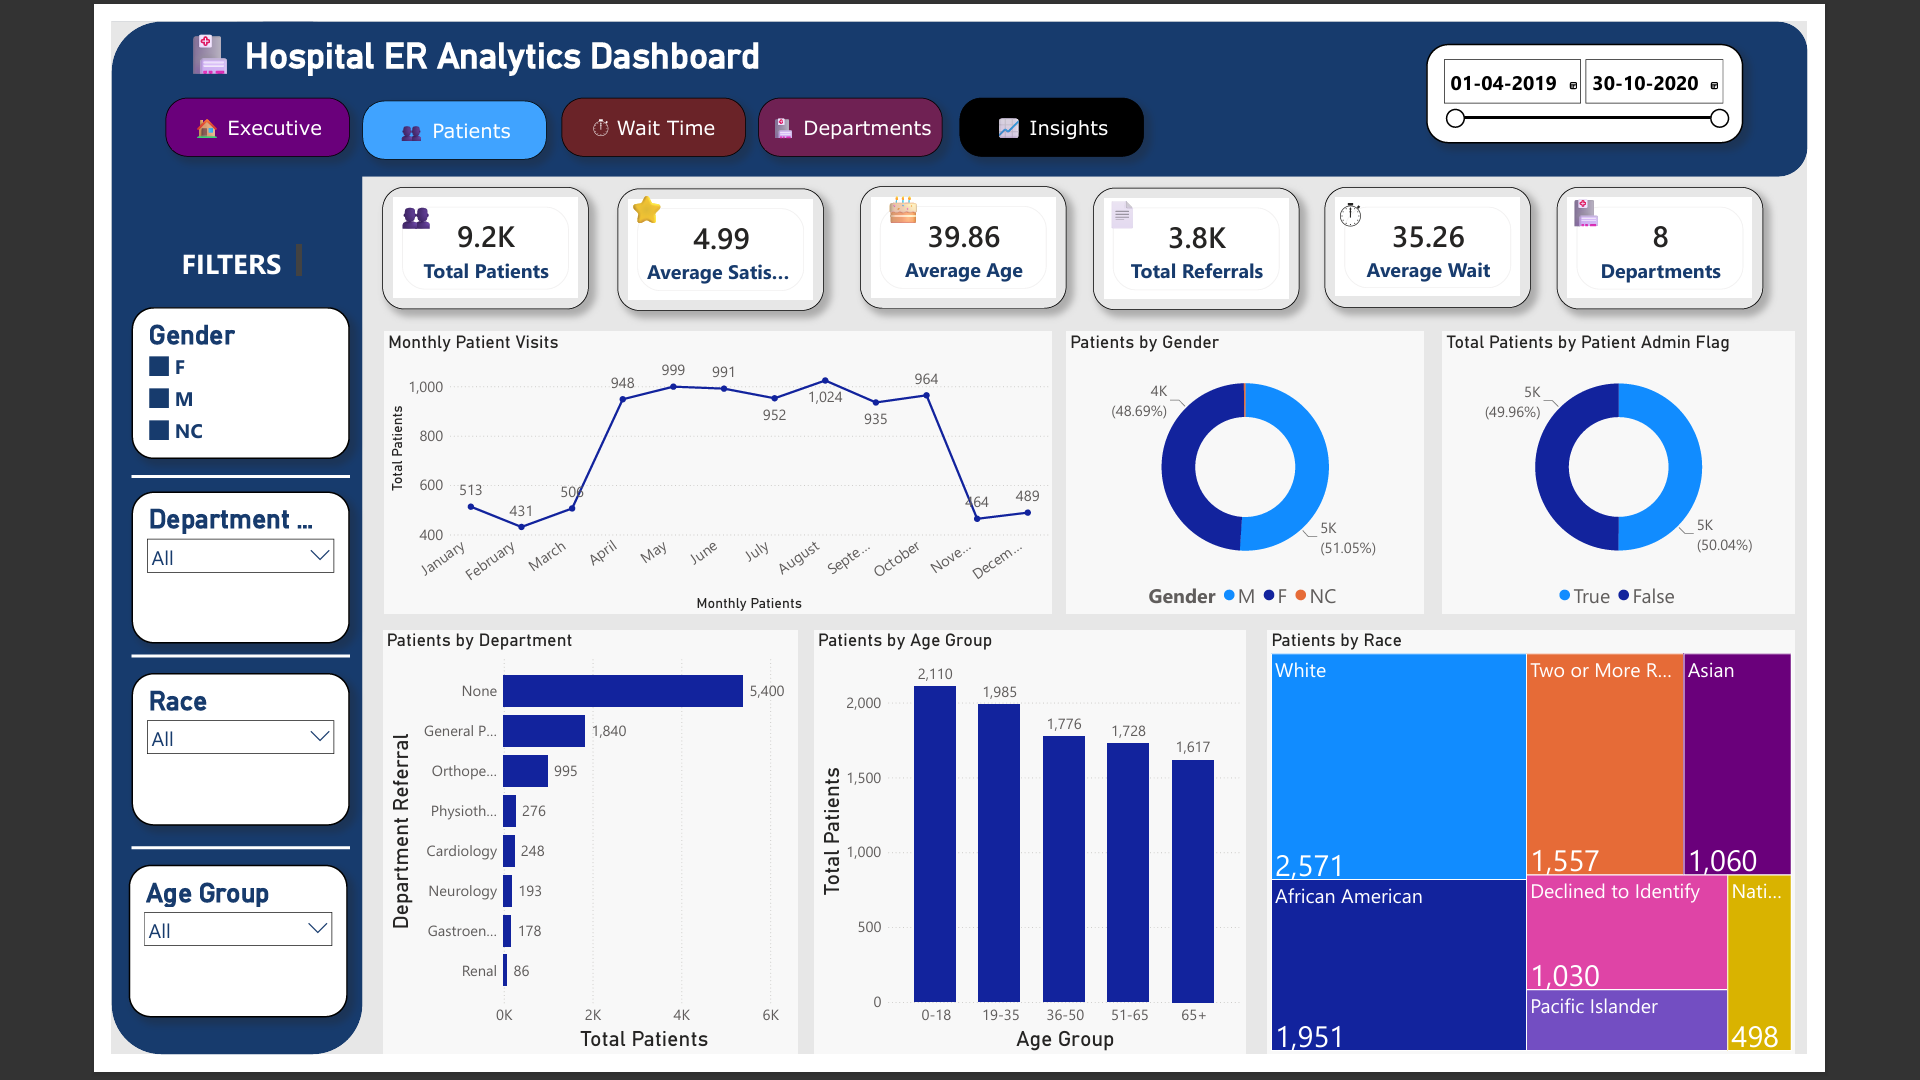

This screenshot's page, from the dashboard's own definition file:
{"tool":"powerbi","page":{"name":"Executive Summary","canvas":[2300,1400],"ordinal":0},"visuals":[{"type":"shape","box":[170,0,2130,210],"z":0},{"type":"cardVisual","fields":{"Data":["Hospital ER.Total Patients"]},"box":[366.7,224.6,280,166.1],"z":0,"group":"g1"},{"type":"shape","box":[0,0,340,1400],"z":1000},{"type":"cardVisual","fields":{"Data":["Hospital ER.Average Wait"]},"box":[1645,224.6,280,163.7],"z":1000,"group":"g1"},{"type":"textbox","box":[90,0,1153.3,113.3],"z":2000},{"type":"cardVisual","fields":{"Data":["Hospital ER.Average Satisfaction"]},"box":[685.9,226.1,280,166.1],"z":2000,"group":"g1"},{"type":"cardVisual","fields":{"Data":["Hospital ER.Average Age"]},"box":[1014.3,223.3,280,166.1],"z":3000,"group":"g1"},{"type":"slicer","fields":{"Values":["Hospital ER.Gender"]},"box":[26.7,386.7,296.7,206.7],"z":3000},{"type":"cardVisual","fields":{"Data":["Hospital ER.Departments"]},"box":[1959.6,223.9,280,166.1],"z":4000,"group":"g1"},{"type":"slicer","fields":{"Values":["Hospital ER.Department Referral"]},"box":[26.7,636.7,296.7,206.7],"z":4000},{"type":"cardVisual","fields":{"Data":["Hospital ER.Total Referrals"]},"box":[1330.2,225,280,166.1],"z":5000,"group":"g1"},{"type":"slicer","fields":{"Values":["Hospital ER.Race"]},"box":[26.7,883.3,296.7,206.7],"z":5000},{"type":"textbox","box":[1657.8,230,186.7,103.3],"z":6000,"group":"g1"},{"type":"slicer","fields":{"Values":["Hospital ER.Age Group"]},"box":[23.3,1143.3,296.7,206.7],"z":6000},{"type":"textbox","box":[1967.8,227.4,80,66.7],"z":7000,"group":"g1"},{"type":"shape","box":[26.7,560,296.7,113.3],"z":7000},{"type":"group","id":"g1","title":"Group 1","box":[366.7,223.3,1872.9,168.9],"z":8000},{"type":"shape","box":[26.7,1063.3,296.7,113.3],"z":9000},{"type":"shape","box":[26.7,803.3,296.7,113.3],"z":10000},{"type":"textbox","box":[90,296.7,173.3,56.7],"z":11000},{"type":"lineChart","title":"Monthly Patient Visits","fields":{"Category":["Hospital ER.Date.Variation.Date Hierarchy.Month"],"Y":["Hospital ER.Total Patients"]},"box":[370,420,905,382.5],"z":12000},{"type":"donutChart","title":"Patients by Gender","fields":{"Category":["Hospital ER.Gender"],"Y":["Hospital ER.Total Patients"]},"box":[1295,420,485,382.5],"z":13000},{"type":"donutChart","fields":{"Category":["Hospital ER.Patient Admin Flag"],"Y":["Hospital ER.Total Patients"]},"box":[1805,420,477.5,382.5],"z":14000},{"type":"clusteredBarChart","title":"Patients by Department","fields":{"Category":["Hospital ER.Department Referral"],"Y":["Hospital ER.Total Patients"]},"box":[367.5,825,562.5,575],"z":15000},{"type":"clusteredColumnChart","title":"Patients by Age Group","fields":{"Category":["Hospital ER.Age Group"],"Y":["Hospital ER.Total Patients"]},"box":[952.5,825,585,575],"z":16000},{"type":"treemap","title":"Patients by Race","fields":{"Values":["Hospital ER.Total Patients"],"Group":["Hospital ER.Race"]},"box":[1567.5,825,715,575],"z":17000},{"type":"textbox","box":[383.3,230,73.3,80],"z":18000},{"type":"textbox","box":[695,223,163.3,76.7],"z":19000},{"type":"textbox","box":[1043.3,223,163.3,86.7],"z":20000},{"type":"textbox","box":[1340,213,76.7,90],"z":21000},{"type":"slicer","fields":{"Values":["Hospital ER.Date"]},"box":[1782.5,30,430,135],"z":22000},{"type":"actionButton","box":[340,106.7,250,80],"z":23000},{"type":"actionButton","box":[610,103.3,250,80],"z":24000},{"type":"actionButton","box":[876.7,103.3,250,80],"z":25000},{"type":"actionButton","box":[1150,103.3,250,80],"z":26000},{"type":"actionButton","box":[73.3,103.3,250,80],"z":27000}]}

Visuals, with their boxes on the page's 2300x1400 design canvas (x1, y1, x2, y2). These are canvas units, not pixel positions in the 1920x1080 screenshot, which may show the page scaled, cropped or inside an application window:
shape: 170 0 2300 210
cardVisual - Hospital ER.Total Patients: 367 225 647 391
shape: 0 0 340 1400
cardVisual - Hospital ER.Average Wait: 1645 225 1925 388
textbox: 90 0 1243 113
cardVisual - Hospital ER.Average Satisfaction: 686 226 966 392
cardVisual - Hospital ER.Average Age: 1014 223 1294 389
slicer - Hospital ER.Gender: 27 387 323 593
cardVisual - Hospital ER.Departments: 1960 224 2240 390
slicer - Hospital ER.Department Referral: 27 637 323 843
cardVisual - Hospital ER.Total Referrals: 1330 225 1610 391
slicer - Hospital ER.Race: 27 883 323 1090
textbox: 1658 230 1844 333
slicer - Hospital ER.Age Group: 23 1143 320 1350
textbox: 1968 227 2048 294
shape: 27 560 323 673
"Group 1" group: 367 223 2240 392
shape: 27 1063 323 1177
shape: 27 803 323 917
textbox: 90 297 263 353
"Monthly Patient Visits" lineChart: 370 420 1275 802
"Patients by Gender" donutChart: 1295 420 1780 802
donutChart - Hospital ER.Patient Admin Flag x Hospital ER.Total Patients: 1805 420 2282 802
"Patients by Department" clusteredBarChart: 368 825 930 1400
"Patients by Age Group" clusteredColumnChart: 952 825 1538 1400
"Patients by Race" treemap: 1568 825 2282 1400
textbox: 383 230 457 310
textbox: 695 223 858 300
textbox: 1043 223 1207 310
textbox: 1340 213 1417 303
slicer - Hospital ER.Date: 1782 30 2212 165
actionButton: 340 107 590 187
actionButton: 610 103 860 183
actionButton: 877 103 1127 183
actionButton: 1150 103 1400 183
actionButton: 73 103 323 183
